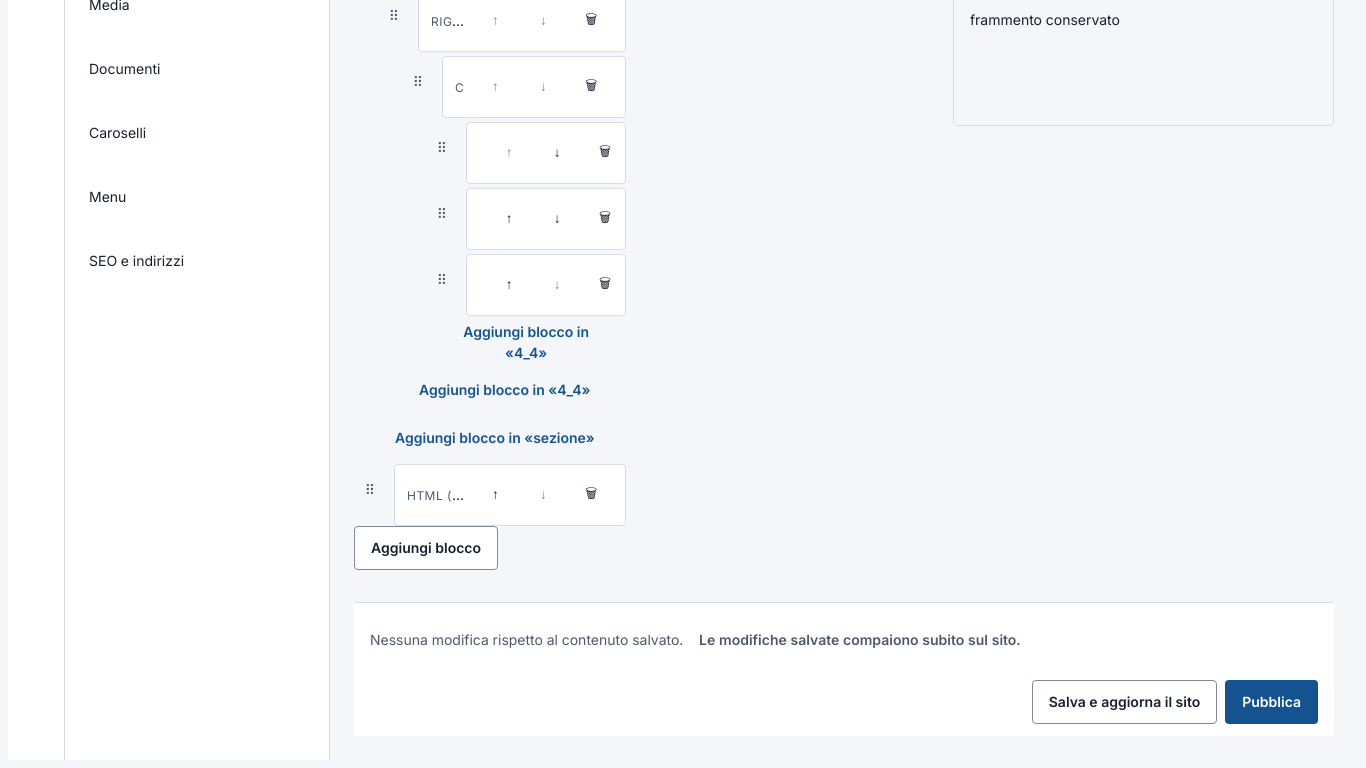
Scenario: editor: inserimento dell’immagine › senza testo alternativo (né spunta «decorativa») «Usa questo media» resta spento
This screenshot has width=1366, height=768.
(page scrolled)
Click the button "Aggiungi blocco".
click(426, 548)  # box left=354, top=526, right=498, bottom=570
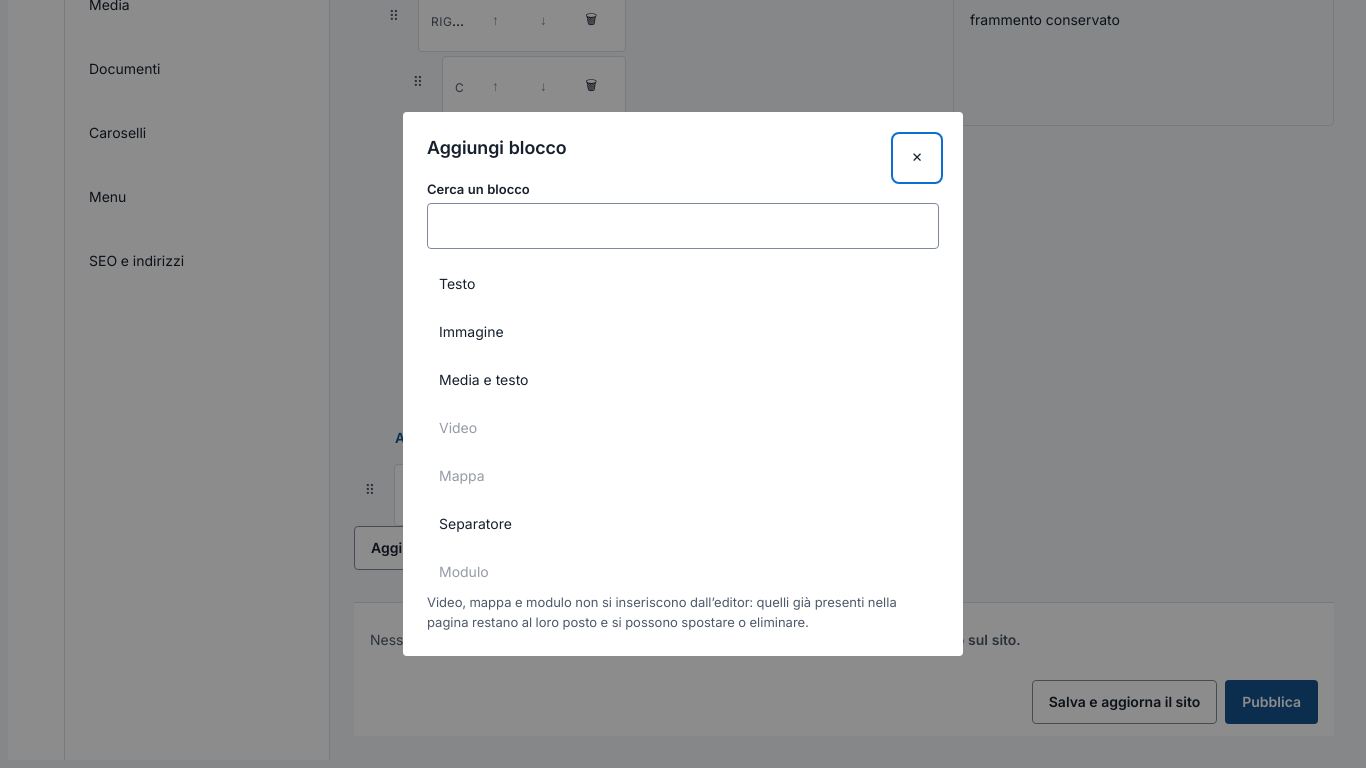
Click the button "Immagine".
click(471, 331)  # box left=427, top=309, right=939, bottom=353
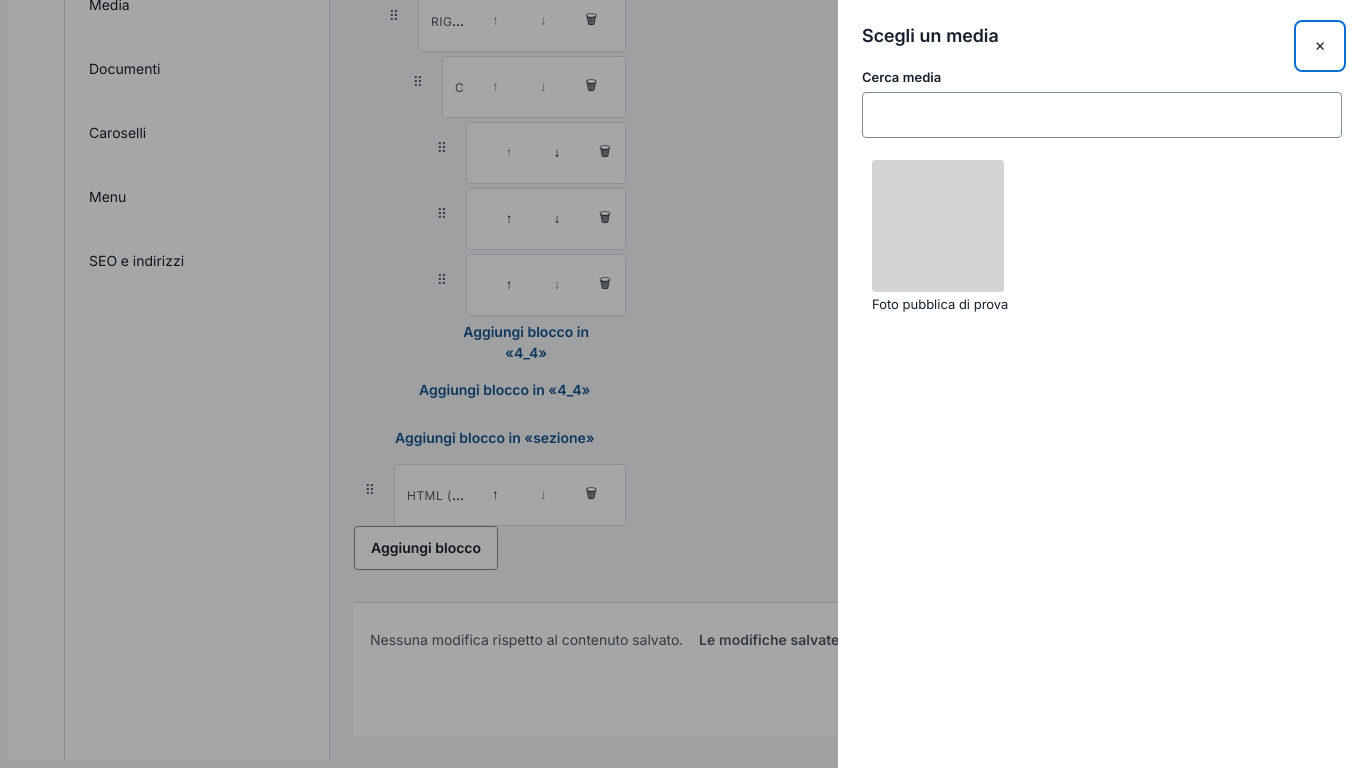
Click the option "Foto pubblica di prova".
click(938, 236)  # box left=862, top=150, right=1014, bottom=322
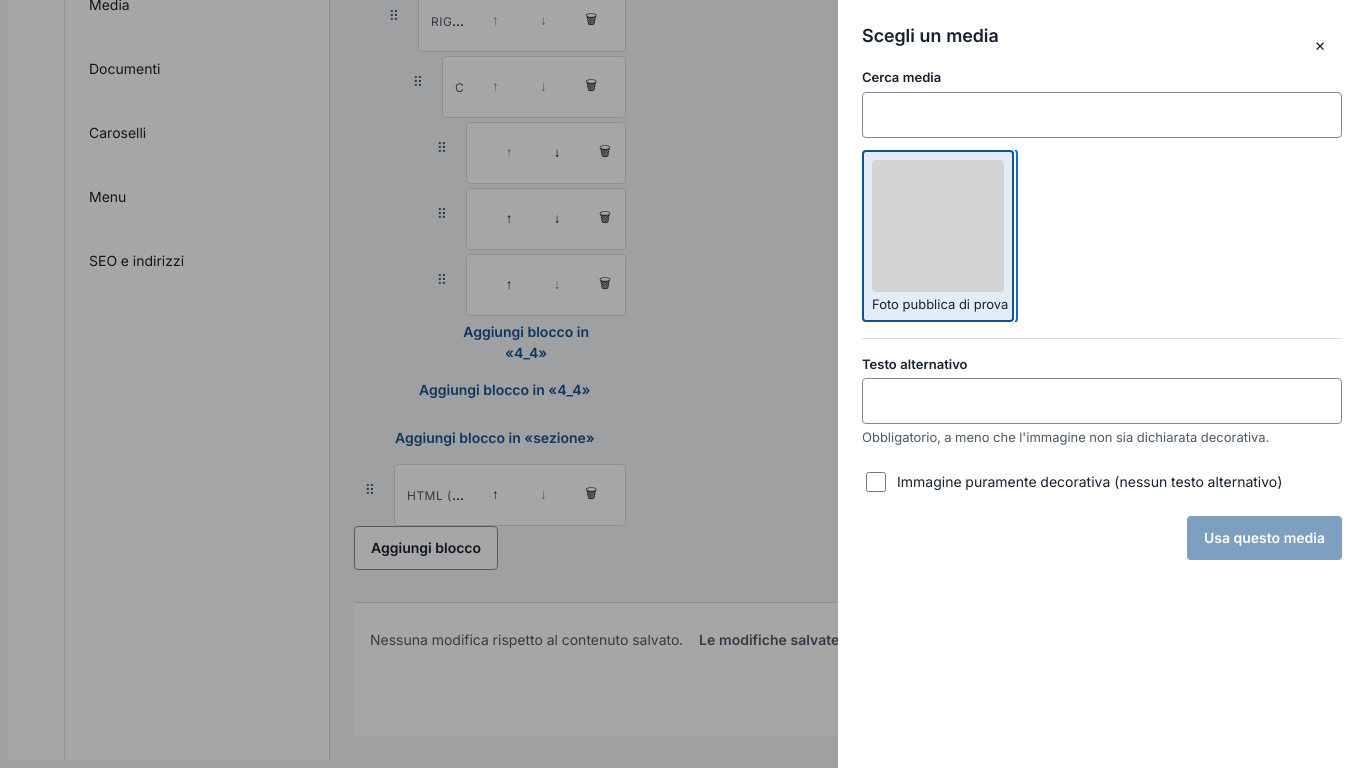
Now the button "Usa questo media" is disabled, box left=1187, top=516, right=1342, bottom=560
Type "Una foto" into the field labelled "Testo alternativo".
click(1102, 401); type("Una foto")  # box left=862, top=378, right=1342, bottom=424
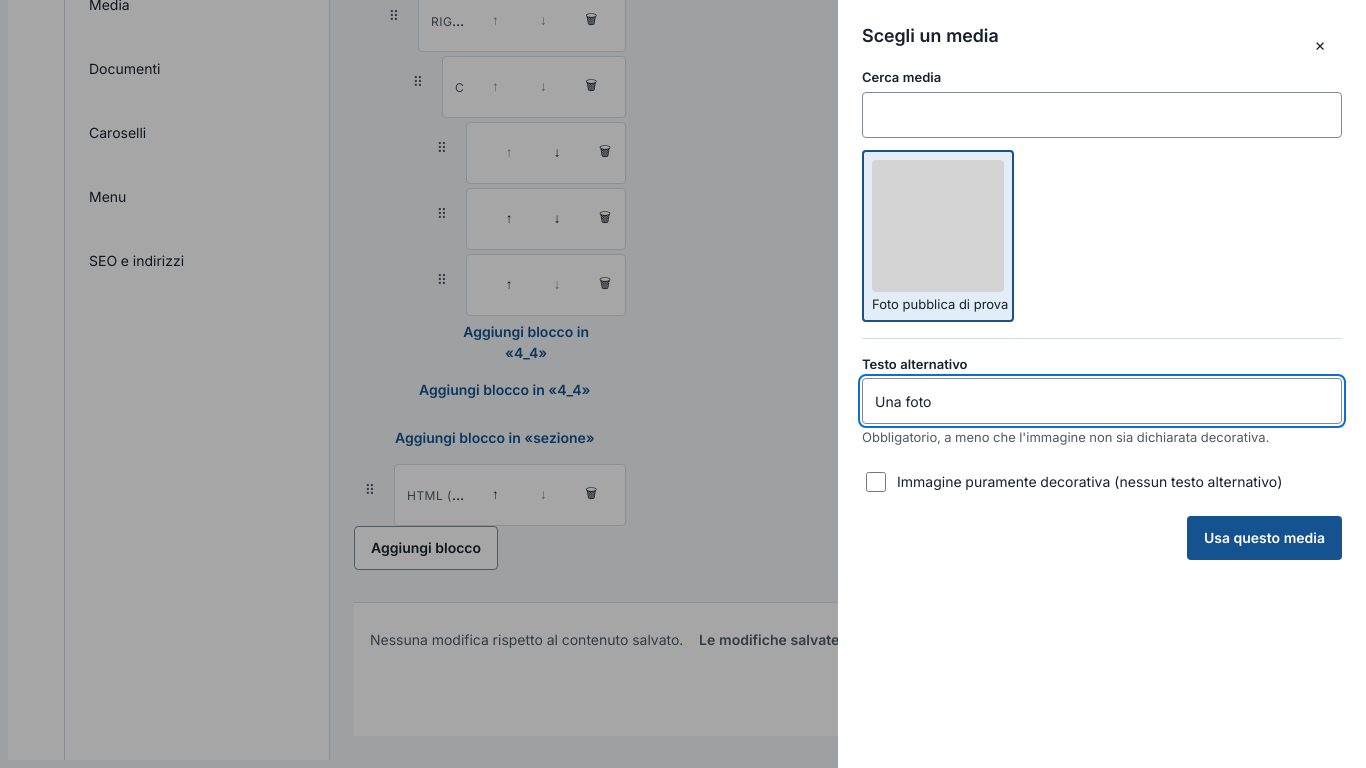
Now the button "Usa questo media" is enabled, box left=1187, top=516, right=1342, bottom=560
